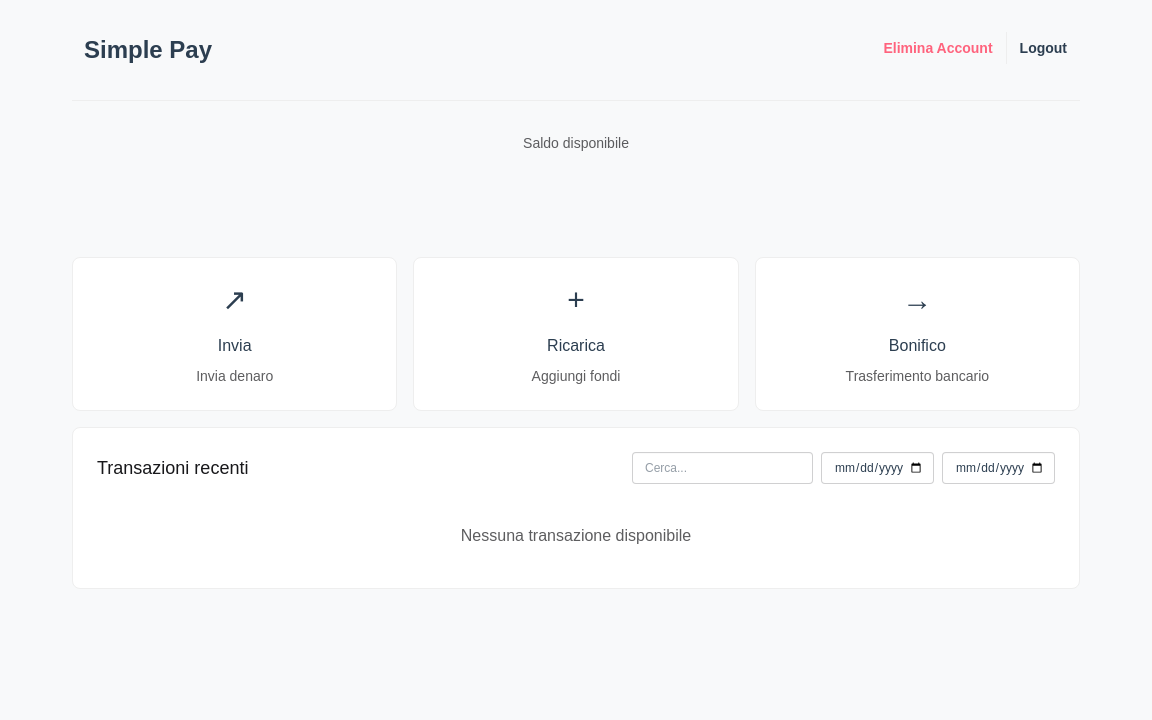
Test: Transfer Modal › should handle transfer error
The image size is (1152, 720).
Click the text "Trasferimento bancario" at {"x": 918, "y": 376}, box [846, 368, 989, 384]
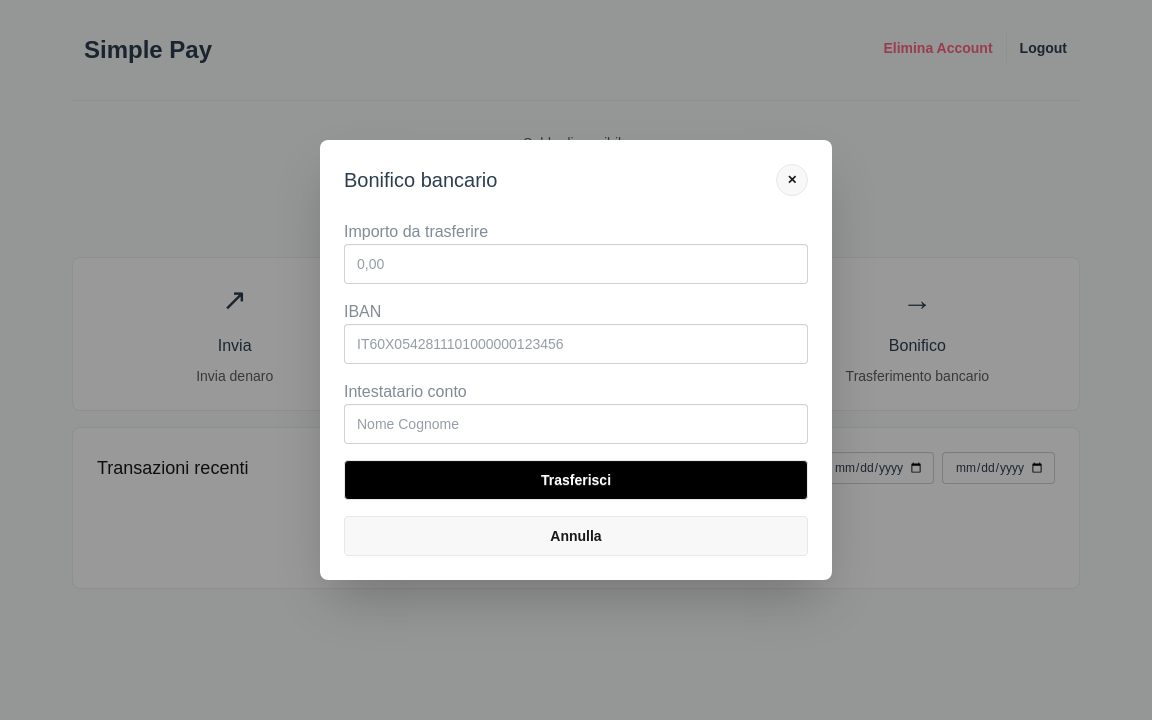
Expected: the dialog with id "transferModal" is shown
Type "10000.00" into the number field with id "transferAmount" at {"x": 576, "y": 264}, box [344, 244, 808, 284]
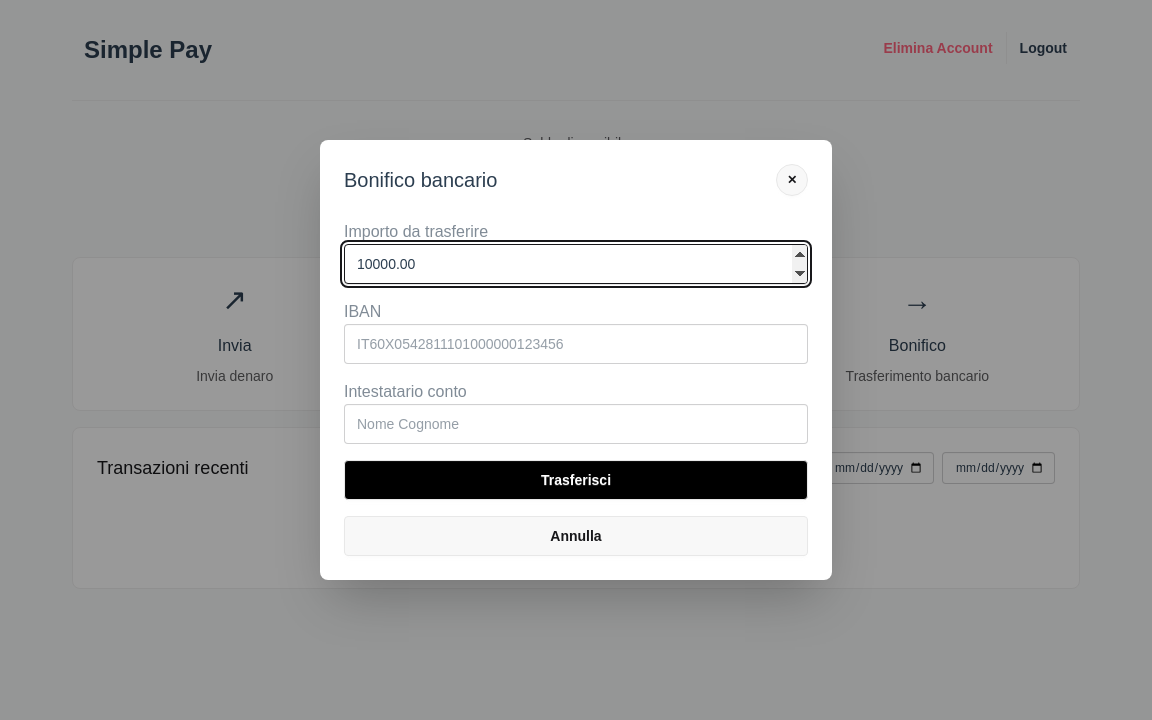
Type "IT60X0542811101000000999999" into the field with id "transferIban" at {"x": 576, "y": 344}, box [344, 324, 808, 364]
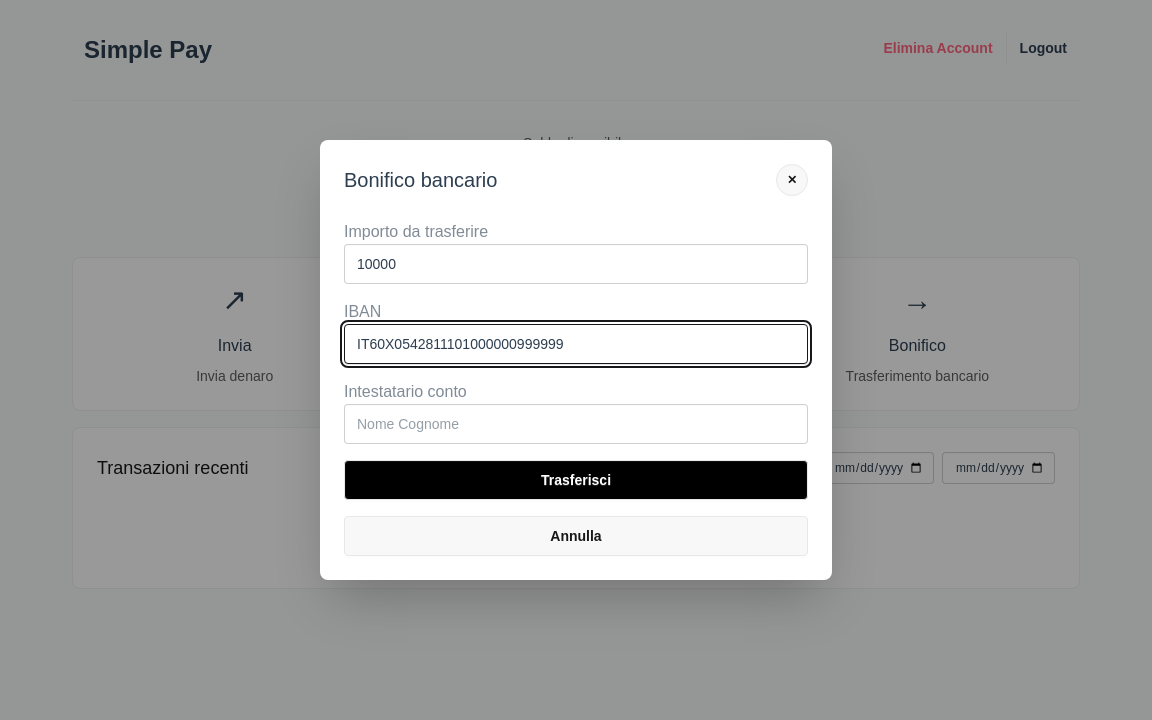
Type "Invalid Account" into the field with id "transferAccountHolder" at {"x": 576, "y": 424}, box [344, 404, 808, 444]
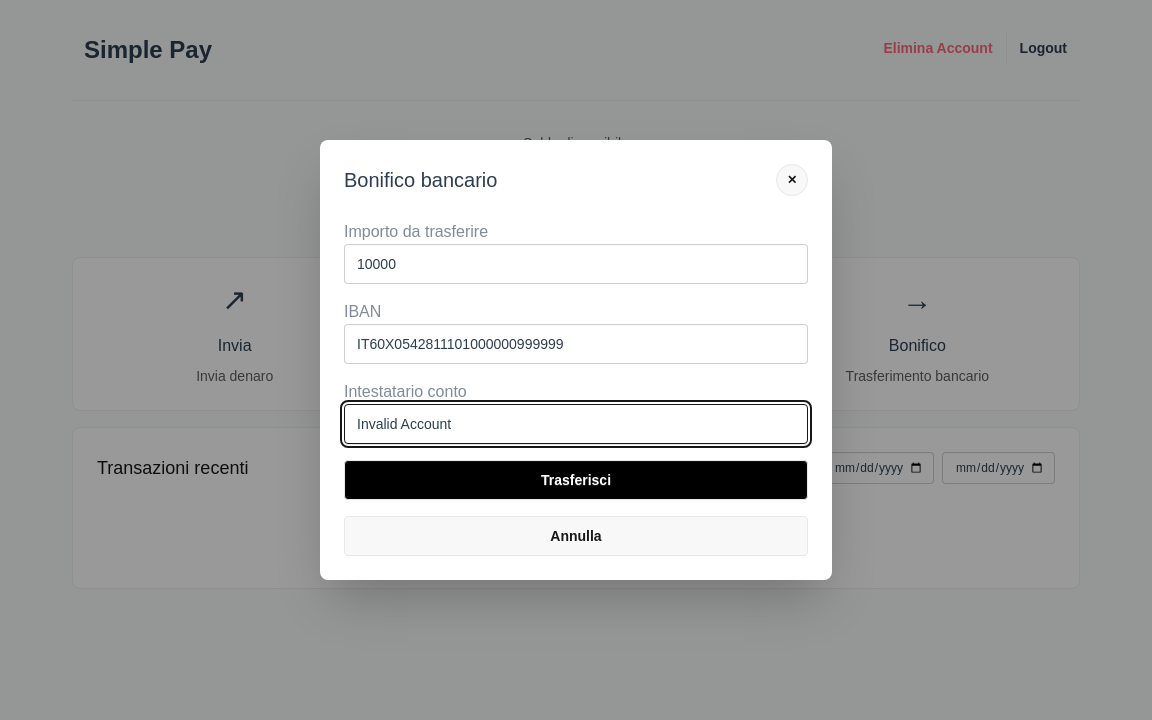
Click the button with id "transferSubmit" at {"x": 576, "y": 480}, box [344, 460, 808, 500]
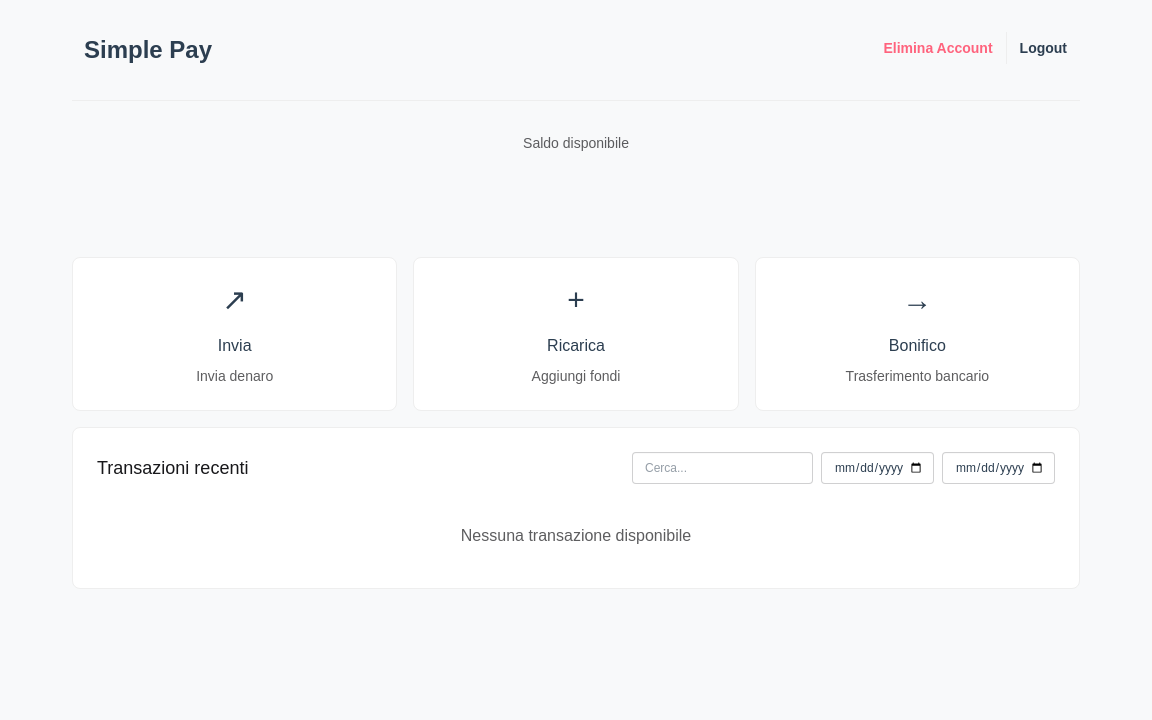
Expected: the dialog with id "transferModal" is gone
